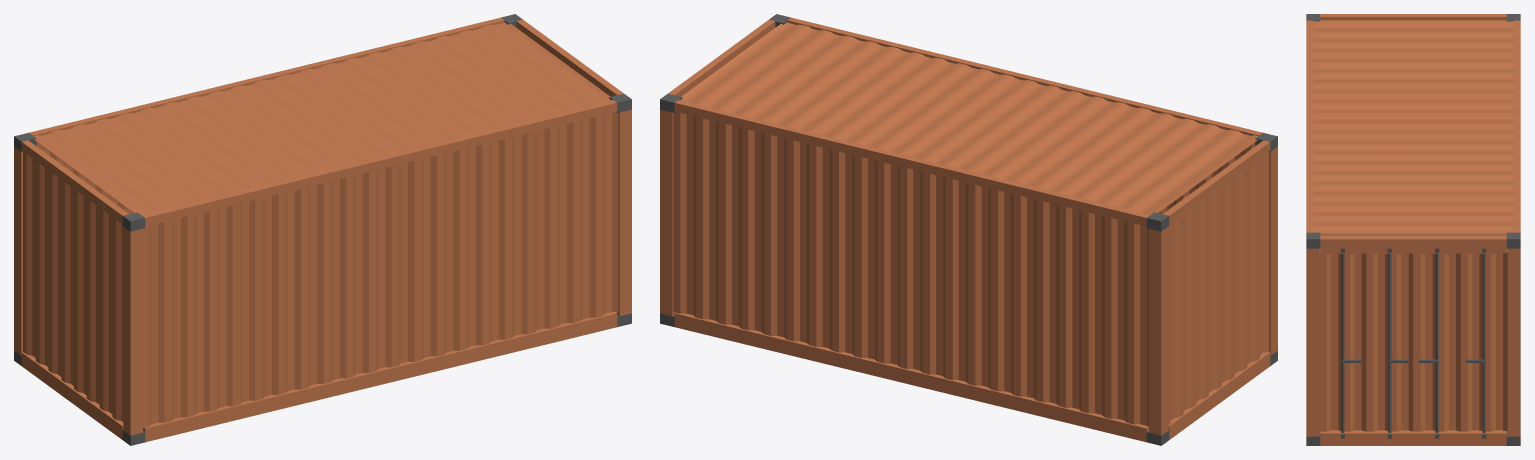
The picture shows the model from 3 angles, left to right: view 1: azimuth 30°, elevation 25°; view 2: azimuth 150°, elevation 25°; view 3: azimuth 270°, elevation 25°; orthographic projection. The views are drawn at different scales.
Parts seen in each view (by area): view 1: wall_side_L, roof, wall_end, rail_bot_side_1, rail_top_side_1, post__1_1, post_1_1, rail_top_side__1, post__1__1, rail_bot_end__1, rail_top_end__1, rail_top_end_1; view 2: wall_side_R, roof, wall_end, rail_bot_side__1, rail_top_side__1, post__1__1, post_1__1, rail_top_side_1, post__1_1, rail_bot_end__1, rail_top_end__1, rail_top_end_1; view 3: roof, door_B_panel, door_A_panel, rail_top_end_1, rail_bot_end_1, post_1__1, post_1_1, rail_top_side__1, rail_top_side_1, rail_top_end__1, door_A_bar_0, door_A_bar_1 (+5 smaller).
Boxes of the visible parts, x1,y1,x2,y2 form: wall_side_L: (143,112,618,427); roof: (34,22,611,214); wall_end: (23,152,123,424); rail_bot_side_1: (143,313,617,442); rail_top_side_1: (142,100,617,226); post__1_1: (123,227,142,435); post_1_1: (616,109,631,316); rail_top_side__1: (29,17,504,142); post__1__1: (14,147,22,355); rail_bot_end__1: (21,352,123,439); rail_top_end__1: (21,140,128,223); rail_top_end_1: (516,19,623,96); wall_side_R: (673,112,1148,427); roof: (680,22,1257,214); wall_end: (1168,152,1268,424); rail_bot_side__1: (674,313,1148,442); rail_top_side__1: (674,100,1149,226); post__1__1: (1149,227,1168,435); post_1__1: (660,109,675,316); rail_top_side_1: (787,17,1262,142); post__1_1: (1269,147,1277,355); rail_bot_end__1: (1168,352,1270,439); rail_top_end__1: (1163,140,1270,223); rail_top_end_1: (668,19,775,96); roof: (1313,20,1513,234); door_B_panel: (1413,252,1507,431); door_A_panel: (1319,252,1413,431); rail_top_end_1: (1320,236,1506,253); rail_bot_end_1: (1320,430,1506,445); post_1__1: (1507,248,1520,436); post_1_1: (1306,248,1319,436); rail_top_side__1: (1513,20,1520,232); rail_top_side_1: (1306,20,1313,232); rail_top_end__1: (1320,14,1506,20); door_A_bar_0: (1388,253,1391,432); door_A_bar_1: (1341,253,1344,432).
Bounding box in the file's own units: 607 × 259 × 244.
